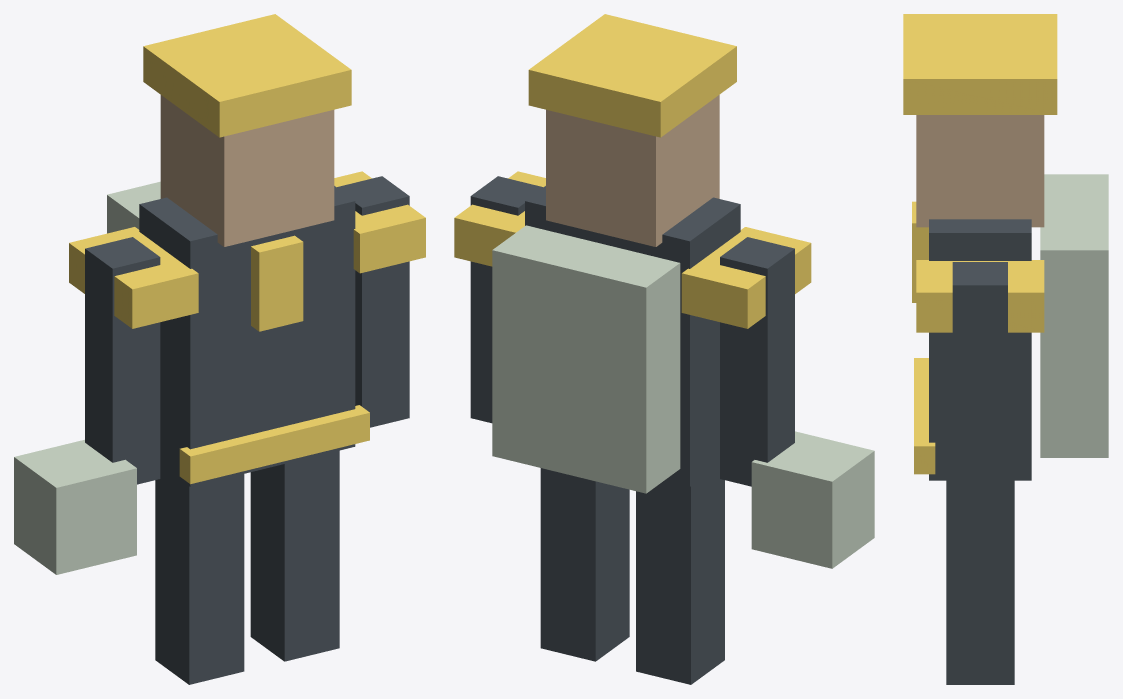
File: 11_noor_cinderholt_courier_of_tempest.glb
The picture shows the model from 3 angles, left to right: view 1: azimuth 30°, elevation 25°; view 2: azimuth 150°, elevation 25°; view 3: azimuth 270°, elevation 25°; orthographic projection.
Parts seen in each view (by area): view 1: Noor Cinderholt, Courier of Tempest; view 2: Noor Cinderholt, Courier of Tempest; view 3: Noor Cinderholt, Courier of Tempest.
Boxes of the visible parts, x1,y1,x2,y2 form: Noor Cinderholt, Courier of Tempest: (14,14,425,684); Noor Cinderholt, Courier of Tempest: (454,14,874,684); Noor Cinderholt, Courier of Tempest: (903,14,1108,684).
Size of the model in its own units: 1.06 by 1.65 by 0.5104.
